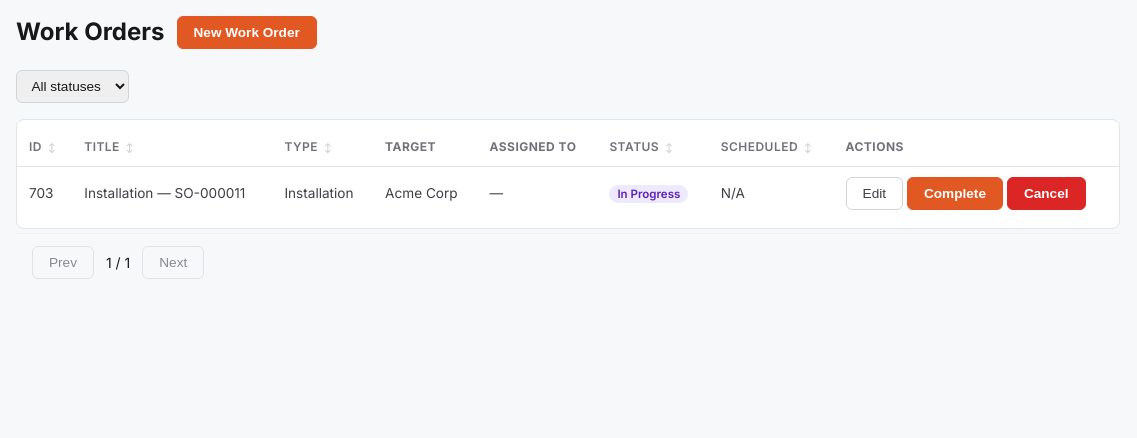
Test: WorkOrders — legal documents panel › allows document viewing but not signing without signed_documents.sign
Click the text "Installation — SO-000011" at (172,193), box [72,166,272,220]
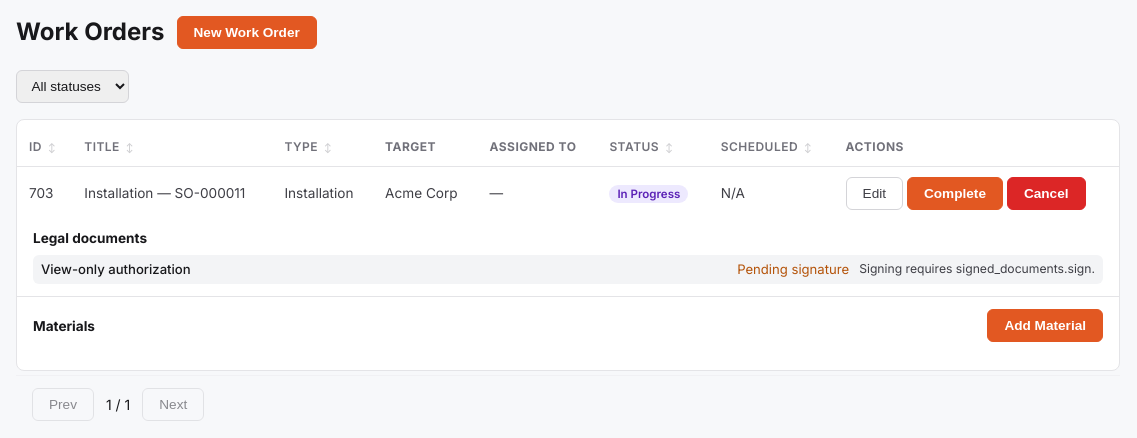
expect the text "View-only authorization" is shown: met, box [41,261,191,277]
expect the text "Signing requires signed_documents.sign." is shown: met, box [859,260,1095,279]
